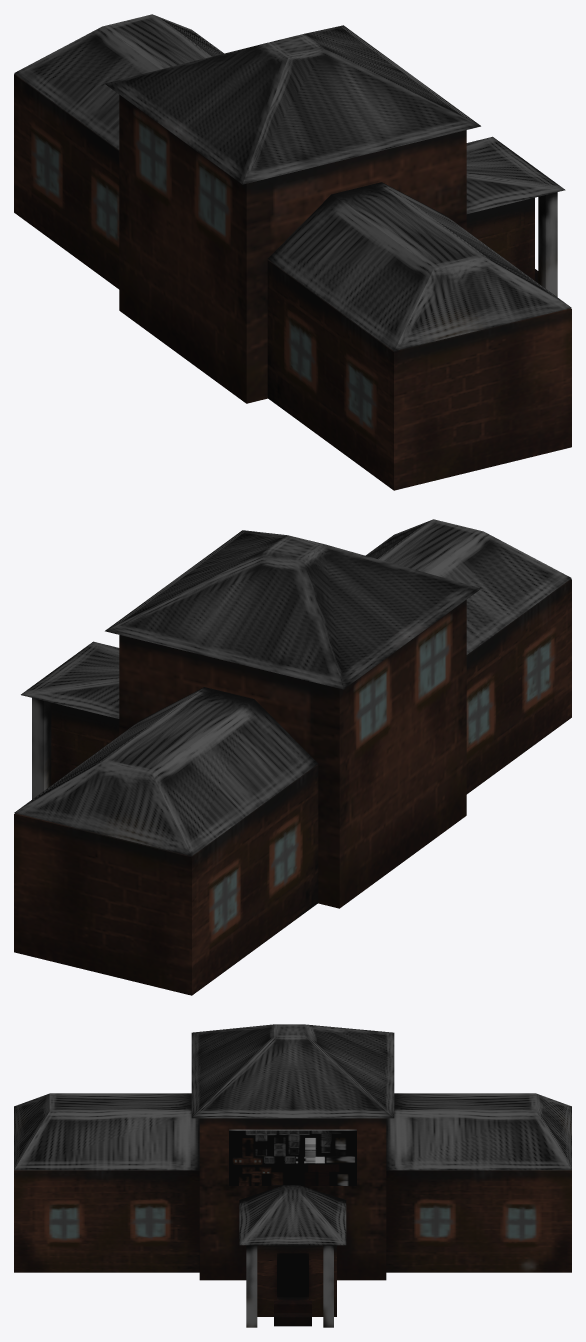
The model's file is Zombie School.fbx.
The picture shows the model from 3 angles, top to bottom: view 1: azimuth 30°, elevation 25°; view 2: azimuth 150°, elevation 25°; view 3: azimuth 270°, elevation 25°; orthographic projection. The views are drawn at different scales.
Parts seen in each view (by area): view 1: zombieSchool_geo; view 2: zombieSchool_geo; view 3: zombieSchool_geo.
Boxes of the visible parts, x1,y1,x2,y2 form: zombieSchool_geo: (14,14,571,490); zombieSchool_geo: (14,519,571,995); zombieSchool_geo: (14,1024,571,1327).
Size of the model in its own units: 278 by 217 by 514.
